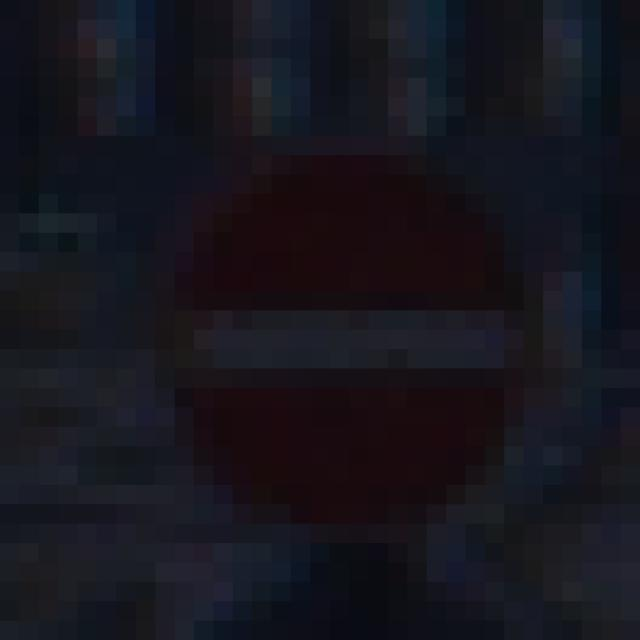No Entry: (117, 117, 544, 544)
